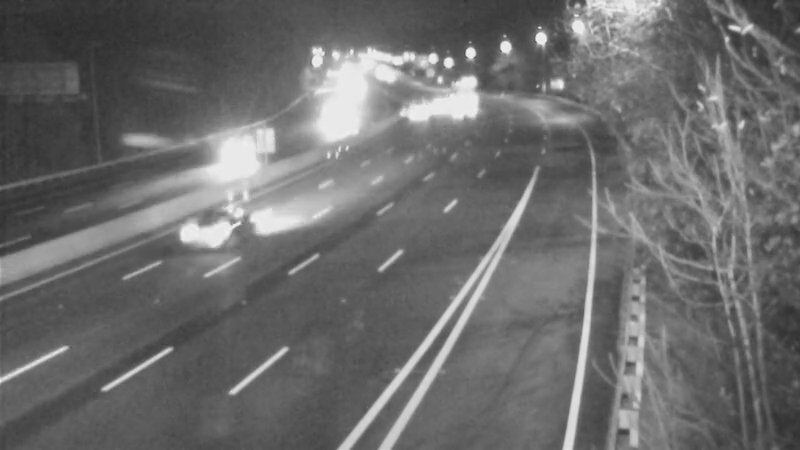vehicle: (165, 193, 245, 273), (176, 111, 256, 191), (436, 68, 486, 118), (411, 77, 461, 127), (439, 84, 489, 134), (389, 81, 439, 131)
